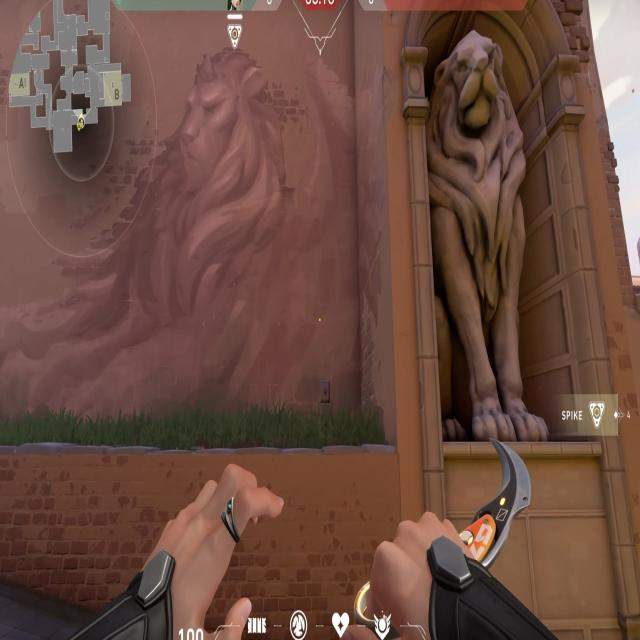Lion_Corner: (386, 13, 576, 463)
